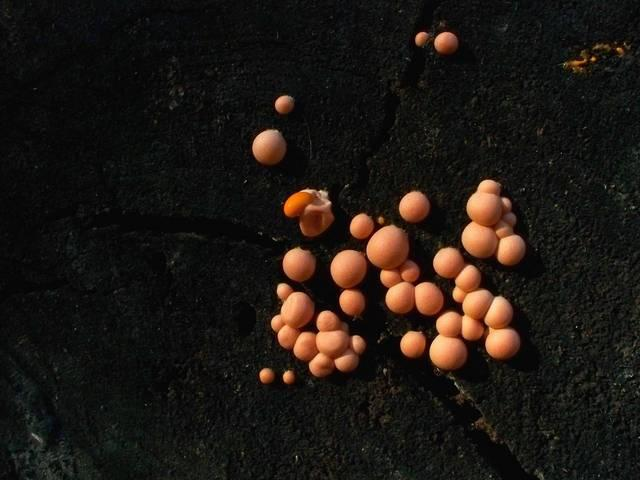Non-edible Mushroom: (260, 176, 527, 385), (282, 187, 334, 237), (250, 127, 286, 165), (433, 30, 459, 55), (273, 94, 295, 115), (413, 30, 431, 48)
